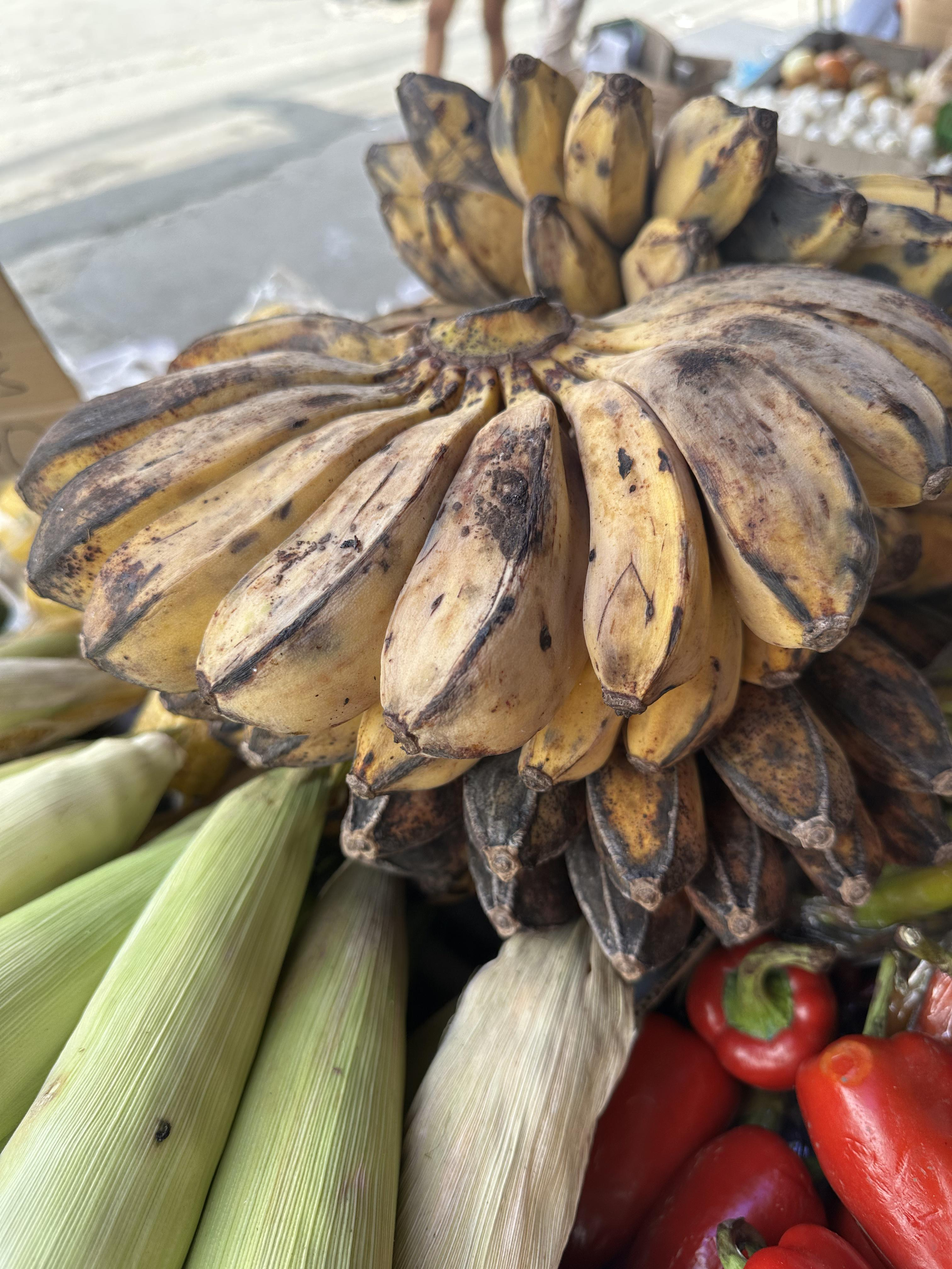overripe: (340, 626, 952, 982)
ripe: (13, 268, 952, 799), (364, 55, 952, 323)
